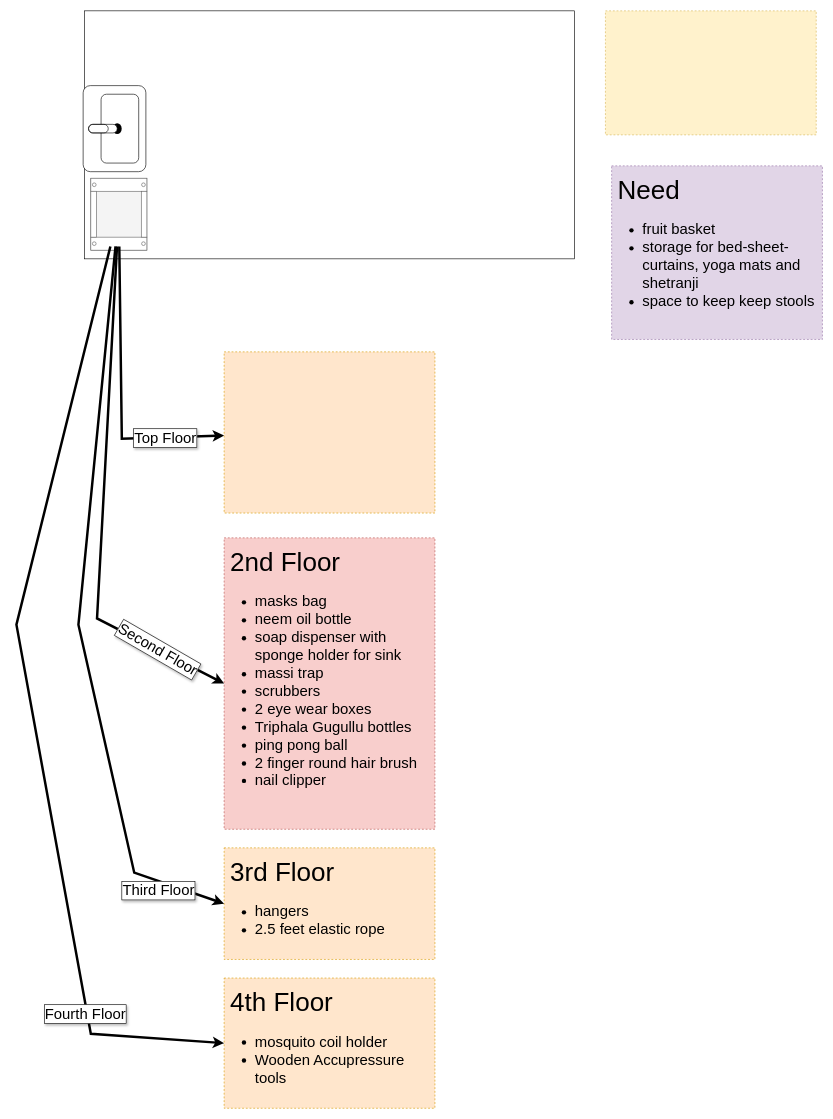
This 833x1119 diagram has some shape labels left out. Here are the shapes that lost their labels. From the top down, the box of each, then its label:
(605, 10, 816, 135): Constraints clothes hanging curtains opening/closing wash basin using space
(224, 351, 435, 513): Top Floor tooth brush holder soap dish tumbler X 2 one tumbler has cloth pins
